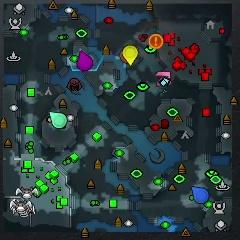Other: (149, 34, 163, 49)
p1: (191, 186, 209, 204)
p2: (49, 111, 68, 129)
p3: (77, 51, 93, 71)
p4: (123, 46, 138, 66)
p5: (120, 51, 127, 63)
x1: (156, 71, 171, 87)
